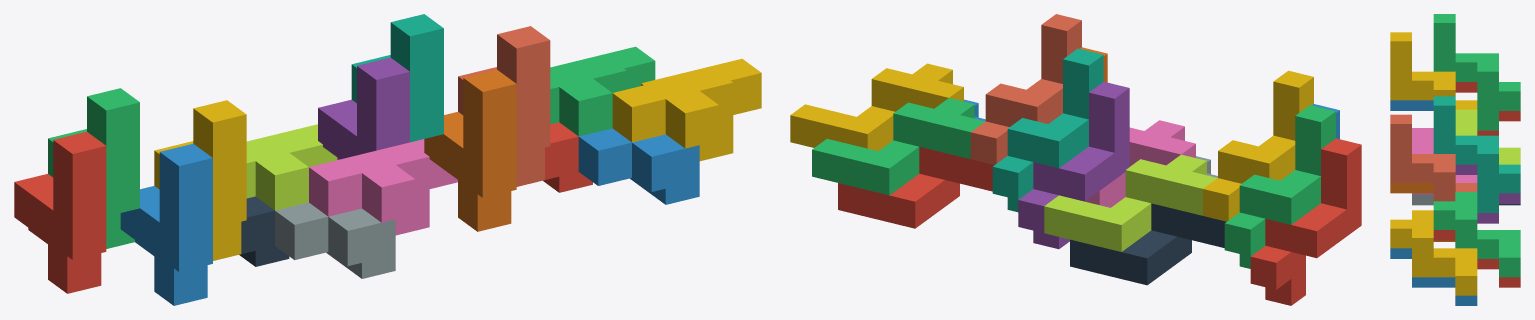
File: tiling.obj
3 views of the same model, side by side, from view 1: azimuth 30°, elevation 25°; view 2: azimuth 150°, elevation 25°; view 3: azimuth 270°, elevation 25° (orthographic). The views are drawn at different scales.
Visible parts, largest first — view 1: copy_1_domain_1, copy_1_domain_2, copy_1_domain_6, copy_2_domain_8, copy_2_domain_4, copy_1_domain_5, copy_2_domain_6, copy_2_domain_2, copy_1_domain_8, copy_1_domain_4, copy_2_domain_7, copy_1_domain_3 (+4 smaller); view 2: copy_1_domain_1, copy_2_domain_3, copy_2_domain_7, copy_1_domain_5, copy_1_domain_3, copy_1_domain_7, copy_2_domain_8, copy_1_domain_4, copy_1_domain_8, copy_2_domain_1, copy_2_domain_5, copy_2_domain_4; view 3: copy_1_domain_7, copy_1_domain_3, copy_2_domain_8, copy_2_domain_7, copy_1_domain_8, copy_1_domain_4, copy_2_domain_3, copy_2_domain_6, copy_2_domain_4, copy_2_domain_5, copy_1_domain_5, copy_1_domain_1 (+3 smaller).
Boxes of the visible parts, x1,y1,x2,y2 form: copy_1_domain_1: [14, 131, 106, 293]; copy_1_domain_2: [120, 143, 212, 305]; copy_1_domain_6: [424, 69, 516, 231]; copy_2_domain_8: [612, 58, 761, 161]; copy_2_domain_4: [309, 139, 457, 235]; copy_1_domain_5: [318, 57, 409, 159]; copy_2_domain_6: [578, 128, 699, 204]; copy_2_domain_2: [275, 202, 395, 278]; copy_1_domain_8: [458, 26, 550, 186]; copy_1_domain_4: [154, 100, 246, 260]; copy_2_domain_7: [550, 46, 655, 136]; copy_1_domain_3: [48, 88, 139, 248]; copy_1_domain_1: [1250, 138, 1361, 305]; copy_2_domain_3: [1044, 154, 1217, 251]; copy_2_domain_7: [812, 98, 985, 195]; copy_1_domain_5: [1018, 82, 1129, 249]; copy_1_domain_3: [1224, 105, 1335, 268]; copy_1_domain_7: [992, 48, 1103, 212]; copy_2_domain_8: [790, 63, 963, 151]; copy_1_domain_4: [1203, 70, 1313, 221]; copy_1_domain_8: [970, 14, 1081, 164]; copy_2_domain_1: [1070, 203, 1226, 285]; copy_2_domain_5: [838, 147, 994, 228]; copy_2_domain_4: [1085, 120, 1195, 207]; copy_1_domain_7: [1433, 96, 1520, 212]; copy_1_domain_3: [1433, 14, 1520, 130]; copy_2_domain_8: [1390, 210, 1477, 295]; copy_2_domain_7: [1433, 192, 1520, 277]; copy_1_domain_8: [1390, 114, 1477, 201]; copy_1_domain_4: [1390, 32, 1477, 109]; copy_2_domain_3: [1455, 109, 1520, 164]; copy_2_domain_6: [1390, 248, 1477, 305]; copy_2_domain_4: [1412, 128, 1477, 194]; copy_2_domain_5: [1433, 230, 1520, 287]; copy_1_domain_5: [1455, 164, 1520, 223]; copy_1_domain_1: [1455, 82, 1520, 135].
Bounding box in the file's own units: 21 × 6 × 6.
